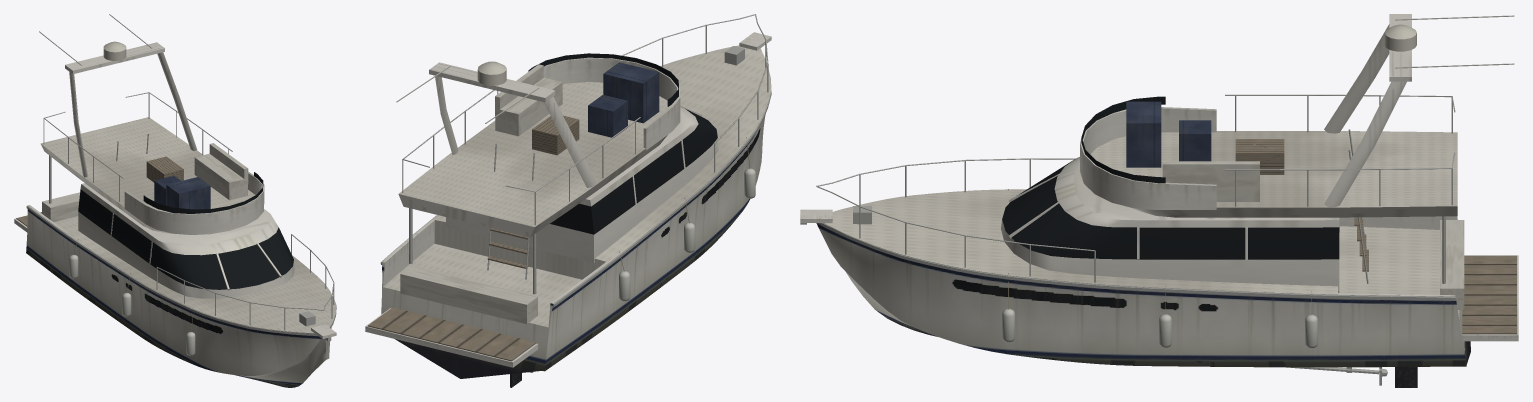
File: motorYacht-a-lod0.glb
3 renders of one model, left to right at view 1: azimuth 30°, elevation 25°; view 2: azimuth 150°, elevation 25°; view 3: azimuth 270°, elevation 25°, orthographic. The views are drawn at different scales.
Visible parts, largest first — view 1: Superstructure, Hull, Gear; view 2: Superstructure, Hull, Gear; view 3: Hull, Superstructure, Gear.
Part boxes in pixels (<box>): Superstructure: <box>39,14,294,298</box>; Hull: <box>14,205,336,387</box>; Gear: <box>42,92,334,355</box>; Superstructure: <box>396,53,718,262</box>; Hull: <box>365,32,771,387</box>; Gear: <box>400,14,768,324</box>; Hull: <box>800,189,1518,387</box>; Superstructure: <box>1001,14,1514,290</box>; Gear: <box>816,94,1464,348</box>.
Bounding box in the file's own units: 4.59 × 7.07 × 13.28.
1 material, 1 textured.
